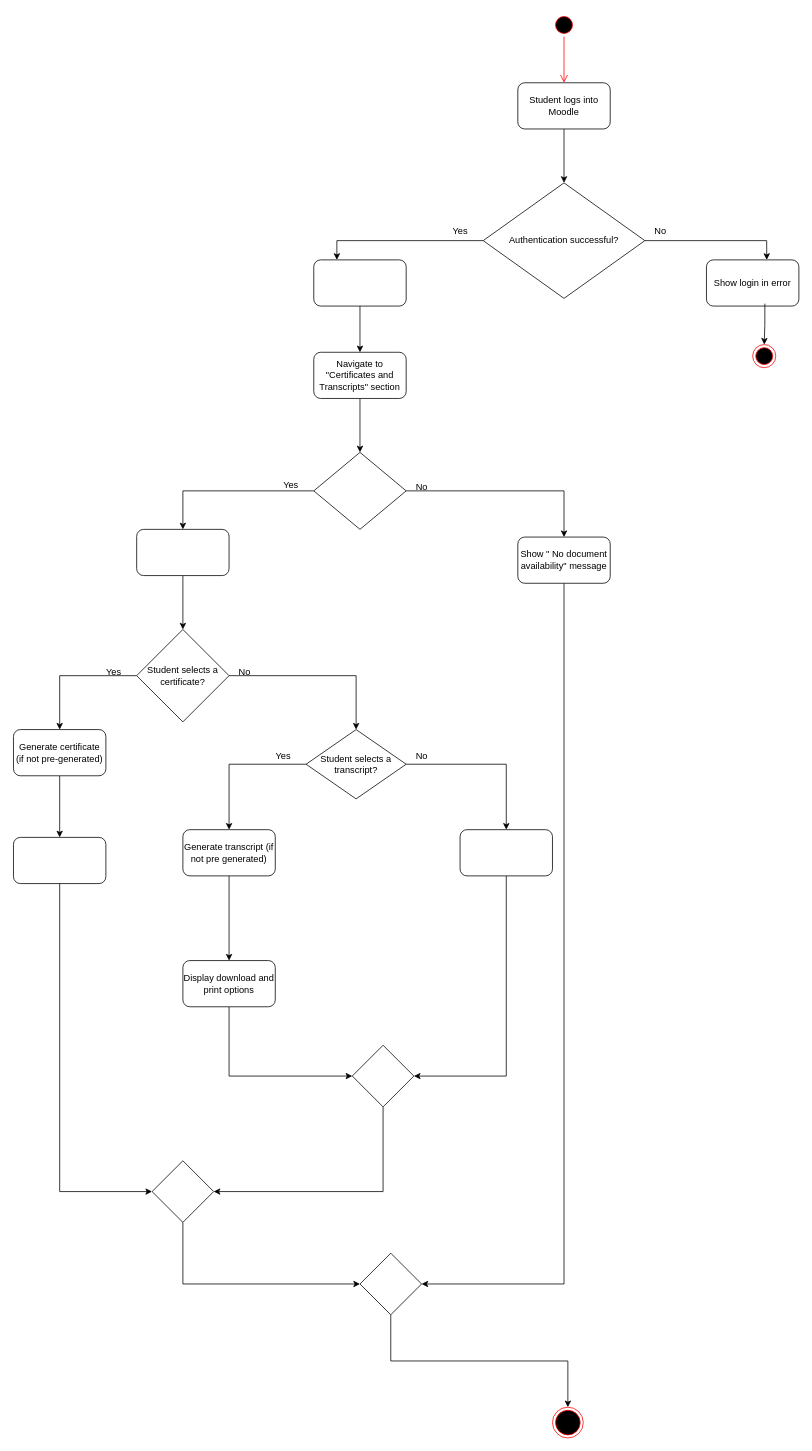
Some shapes in this 812 by 1451 pixel diagram are drawn without their labels. The shapes that lost their labels are listed below. From the top down, each one's centre as x and y in pixels, then its label:
(359,282): Access student dashboard
(359,490): Certificates or Transcripts availability?
(182,552): Display list of availability documents (certificates and trancripts)
(59,860): Display download and share options
(505,852): Return to list view
